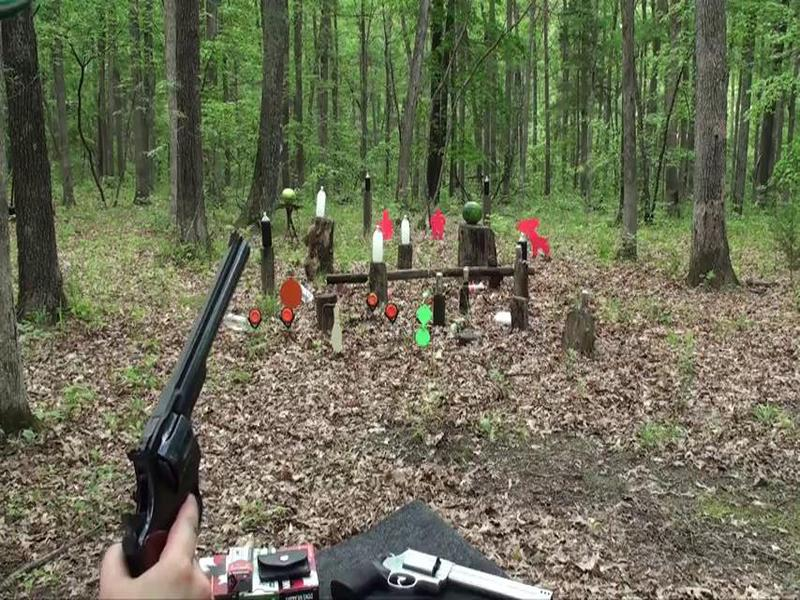Revolver: (105, 232, 260, 571)
